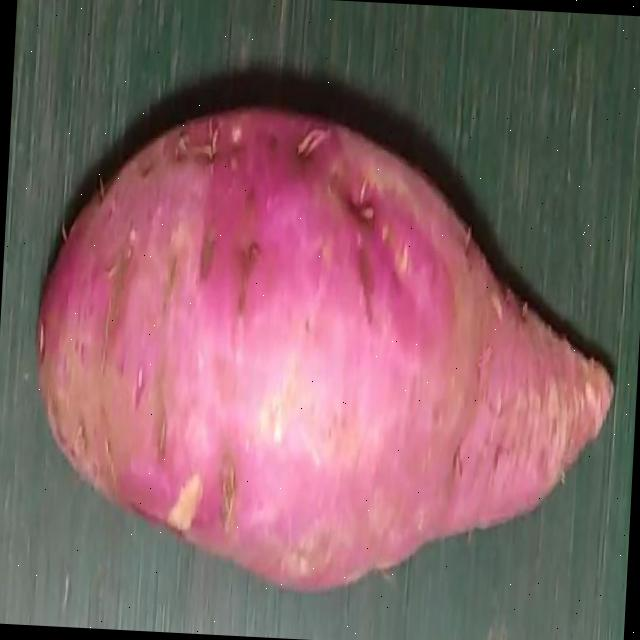Sweet Potato: (35, 106, 613, 593)
